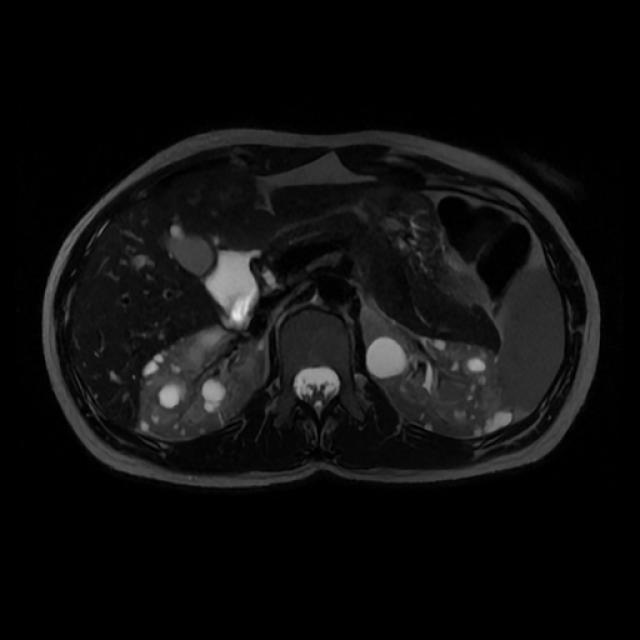sag: (138, 325, 265, 442)
sol: (360, 307, 517, 439)
